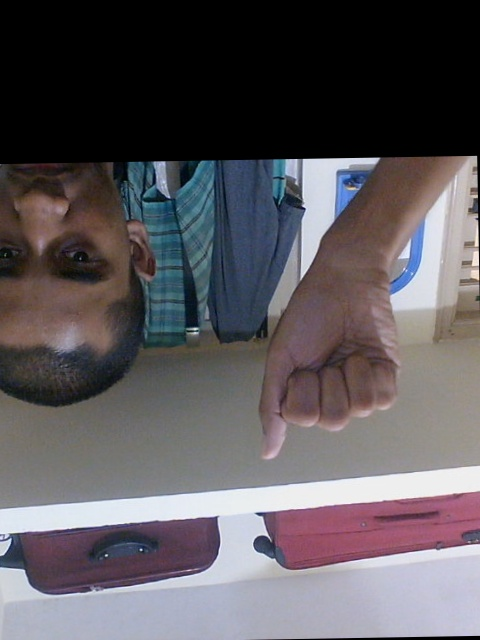hand: (256, 236, 409, 471)
